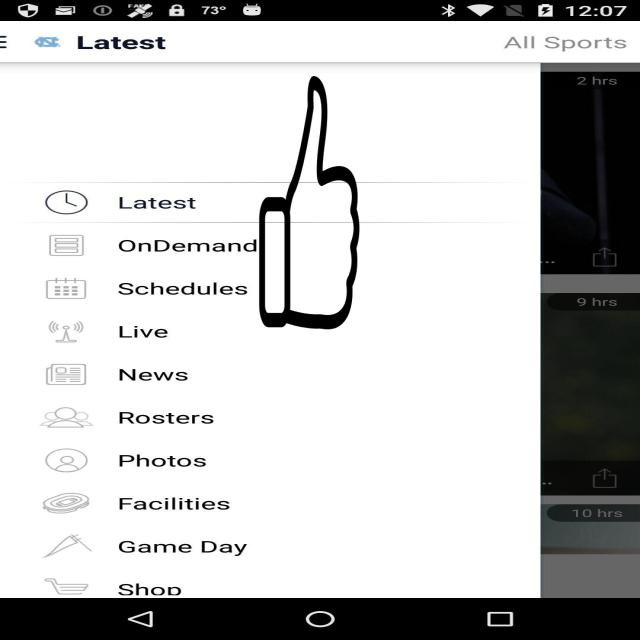privacy zuckering: (258, 76, 361, 329)
